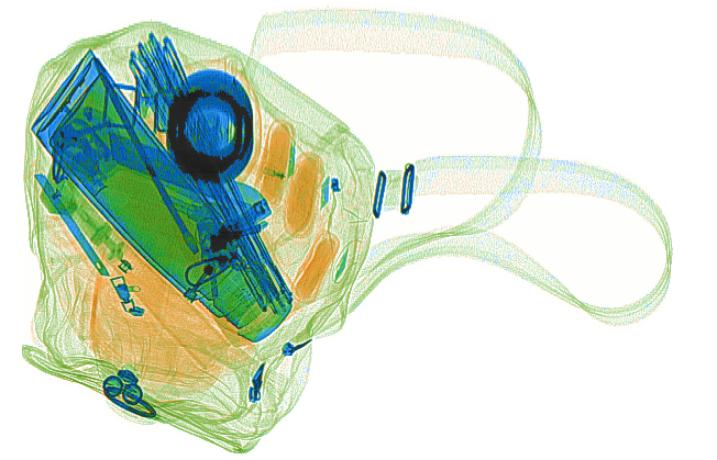knife: (31, 170, 111, 277)
scissors: (54, 114, 112, 177)
